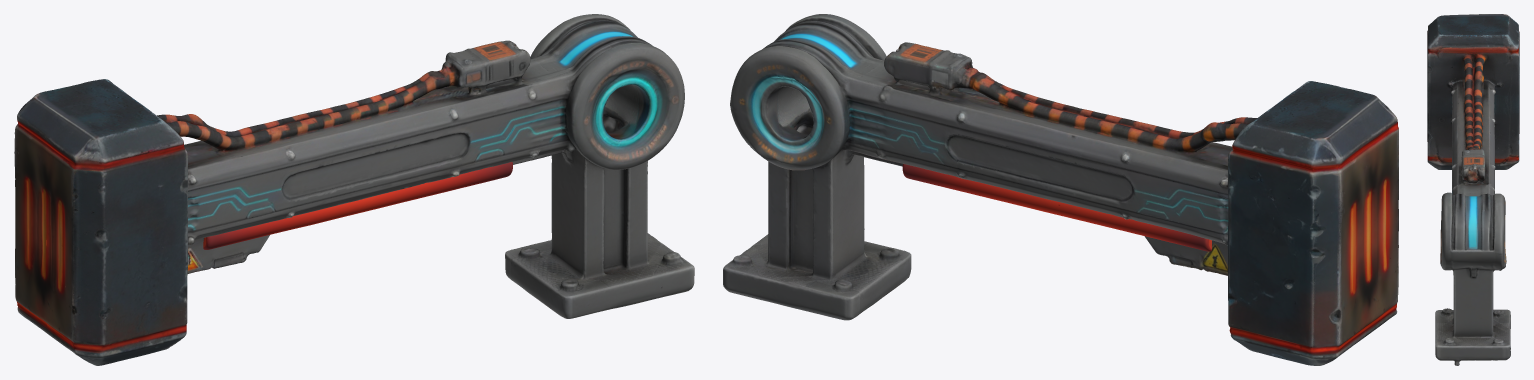
3 views of the same model, side by side, from view 1: azimuth 30°, elevation 25°; view 2: azimuth 150°, elevation 25°; view 3: azimuth 270°, elevation 25° (orthographic). The views are drawn at different scales.
Parts seen in each view (by area): view 1: Mesh_0.014, LaserBeam; view 2: Mesh_0.014, LaserBeam; view 3: Mesh_0.014.
Boxes of the visible parts, bbox=[...] form: Mesh_0.014: bbox=[14, 14, 694, 365]; LaserBeam: bbox=[203, 162, 512, 249]; Mesh_0.014: bbox=[723, 14, 1398, 365]; LaserBeam: bbox=[902, 164, 1211, 251]; Mesh_0.014: bbox=[1427, 14, 1519, 365].
Bounding box in the file's own units: 2 × 0.9483 × 0.4392.
Materials: 2 (2 with a texture image).
